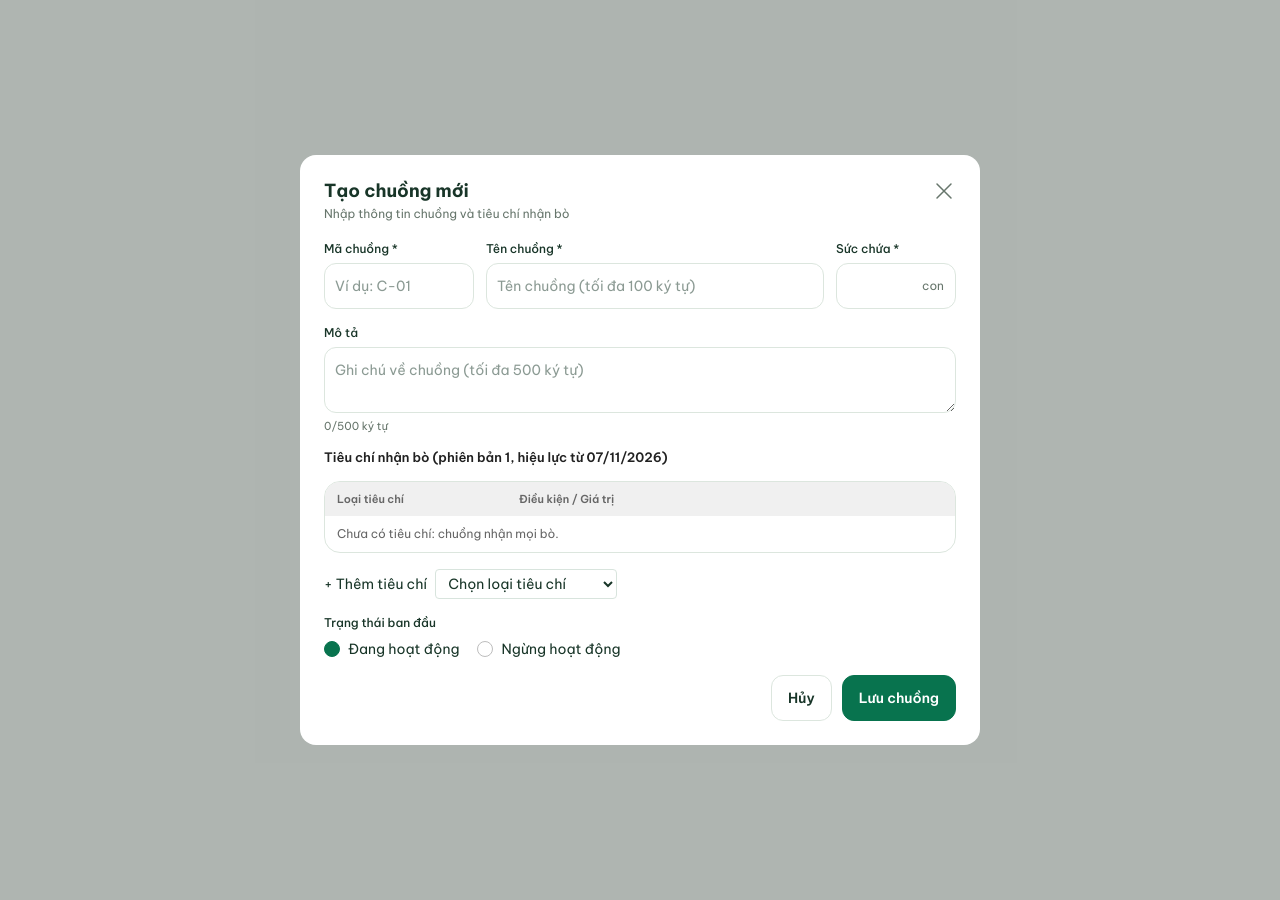
it: Create / Edit Pen popup › requires a value for every added criterion
Type "C-02" into the field with placeholder "Ví dụ: C-01" at (399, 286), box x1=324 y1=263 x2=474 y2=309
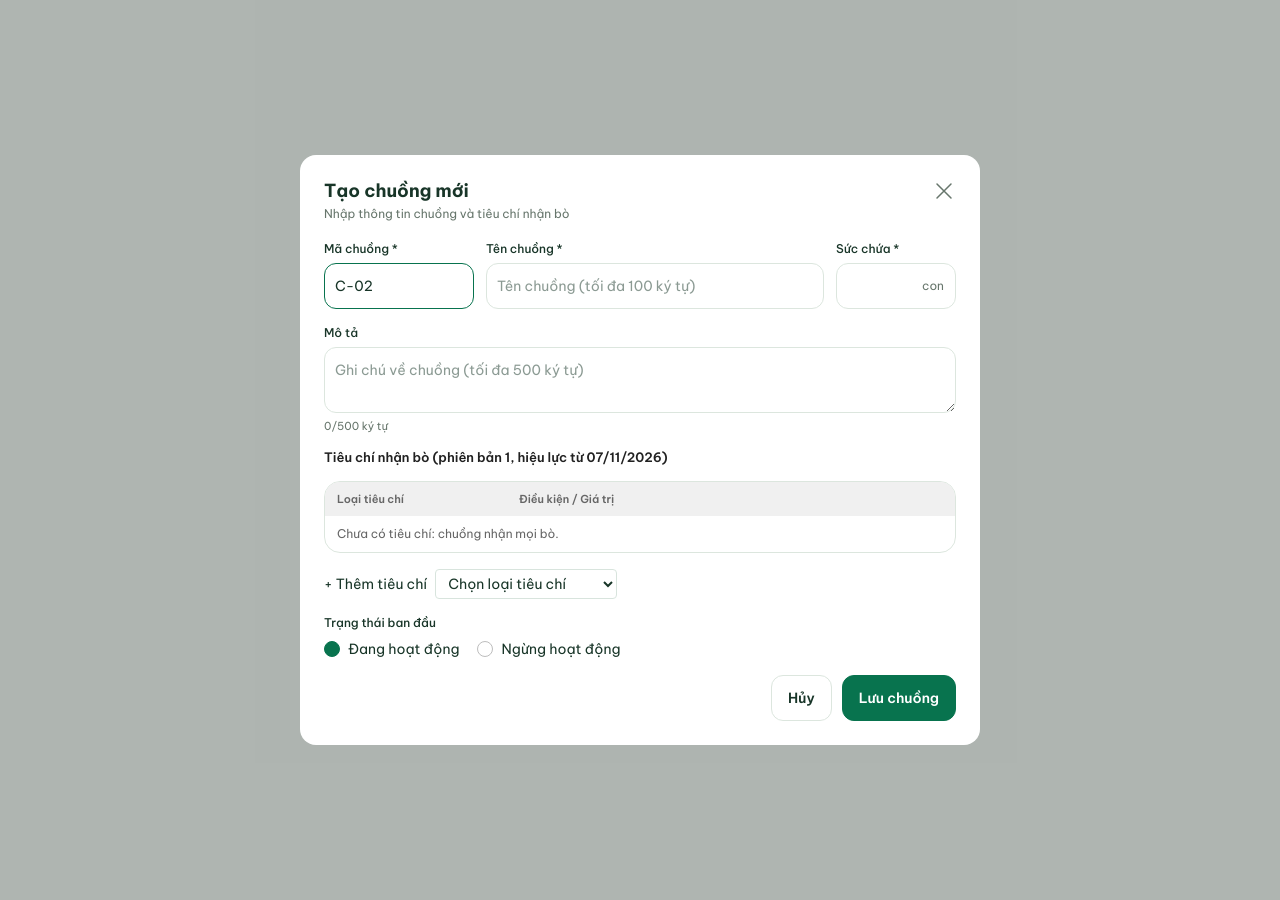
Type "Bê" into the field with placeholder "Tên chuồng (tối đa 100 ký tự)" at (655, 286), box x1=486 y1=263 x2=824 y2=309
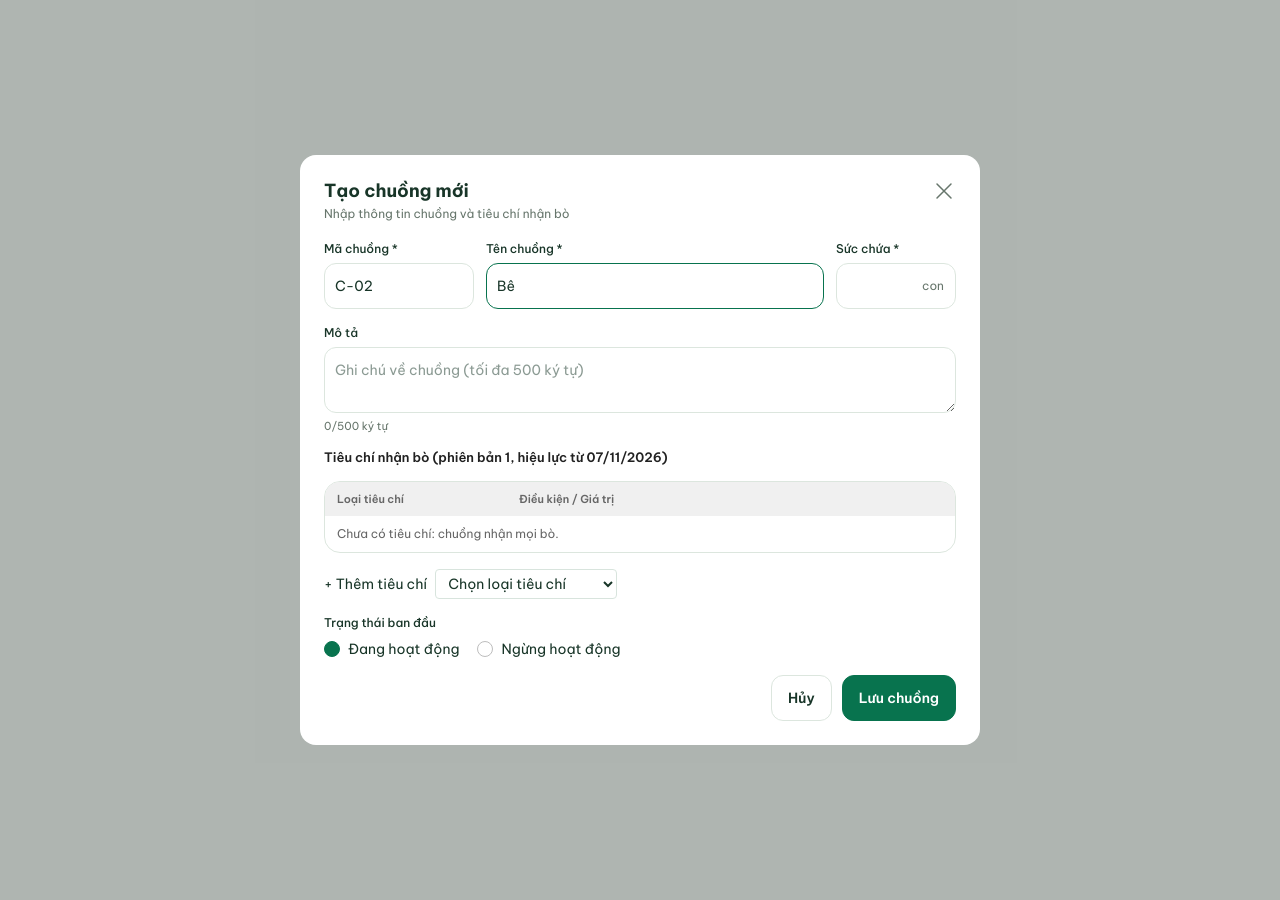
Type "10" into the field next to "con" at (896, 286), box x1=836 y1=263 x2=956 y2=309
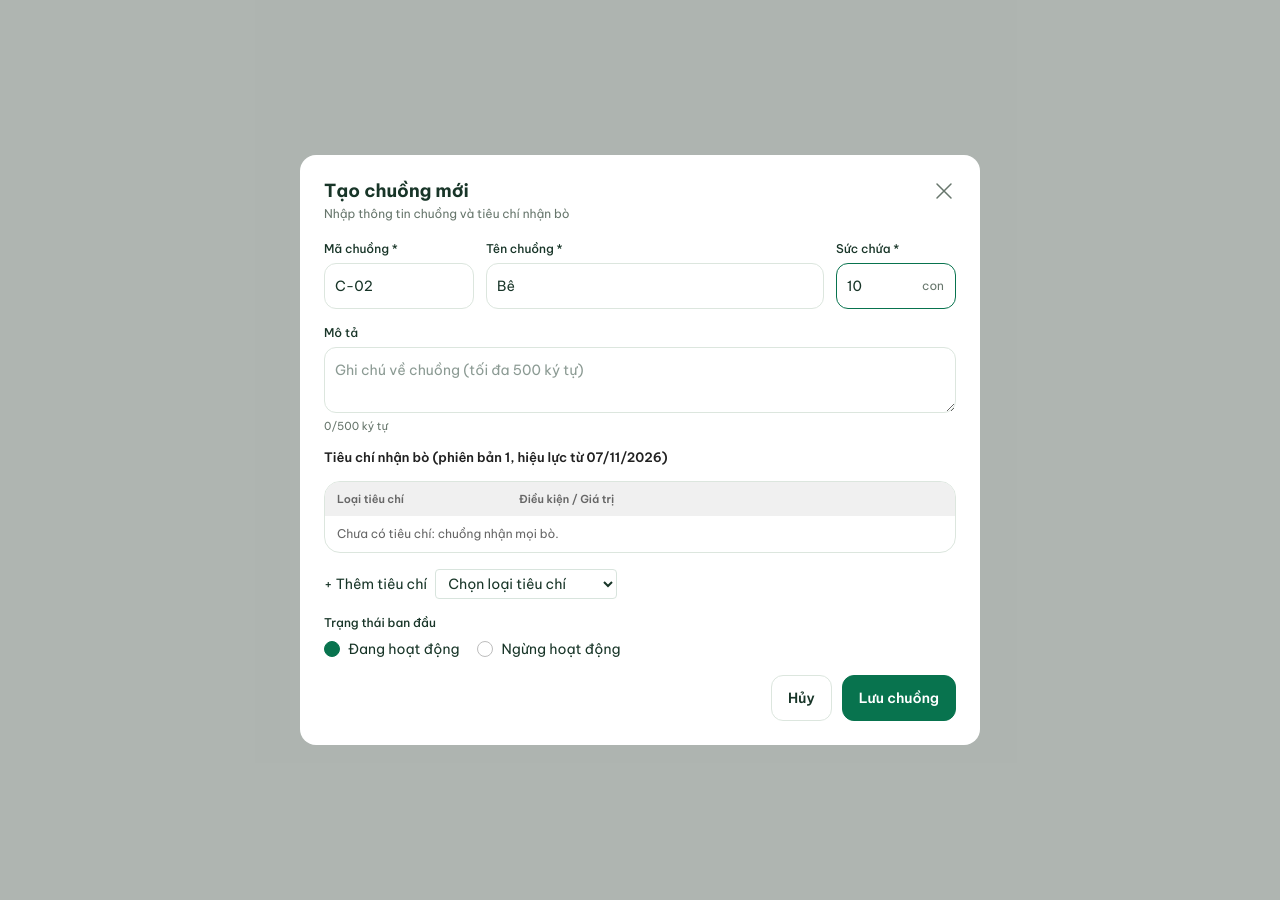
Select "Giai đoạn" in the dropdown labelled "Thêm tiêu chí" at (526, 584), box x1=435 y1=569 x2=617 y2=599
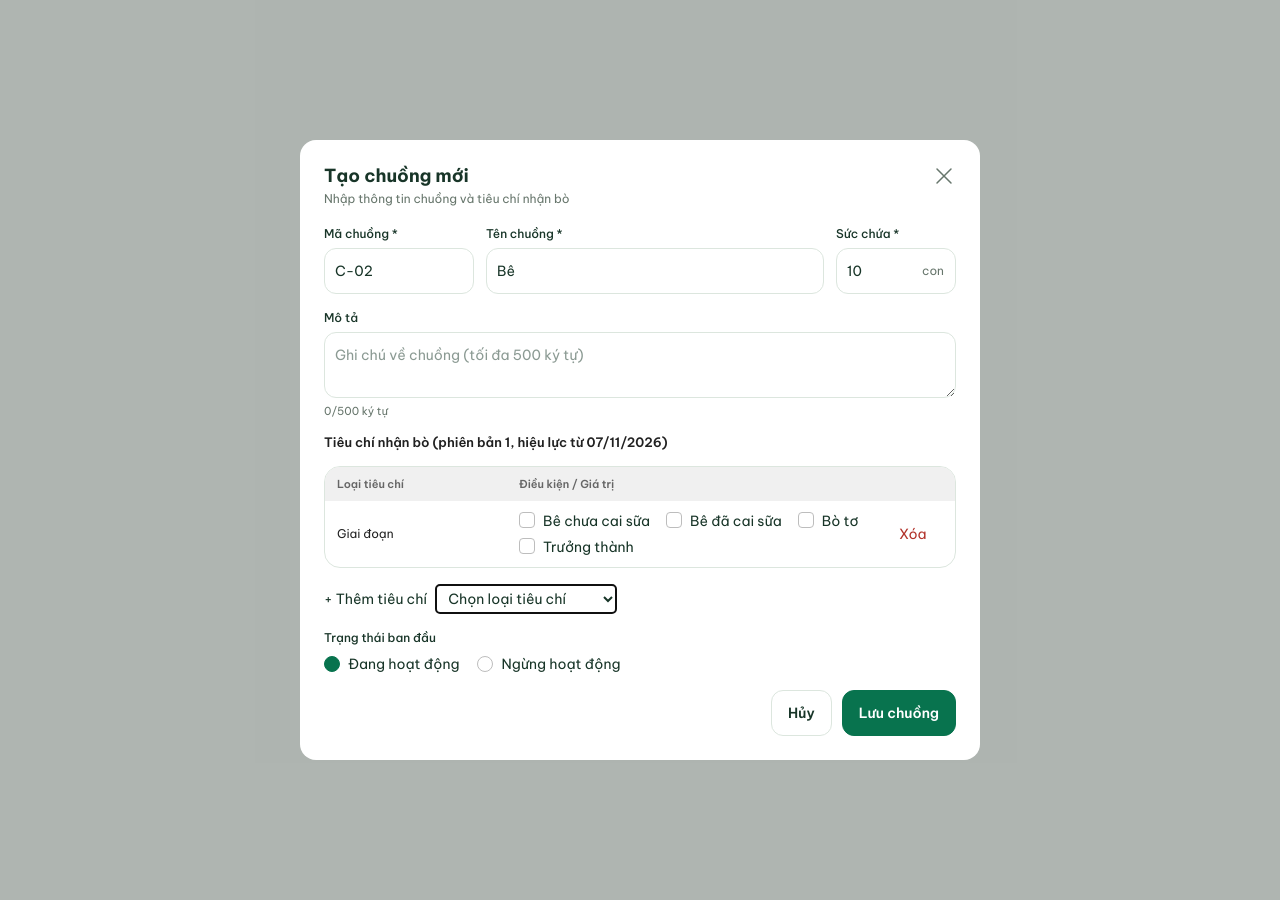
Click the button "Lưu chuồng" at (899, 713), box x1=842 y1=690 x2=956 y2=736
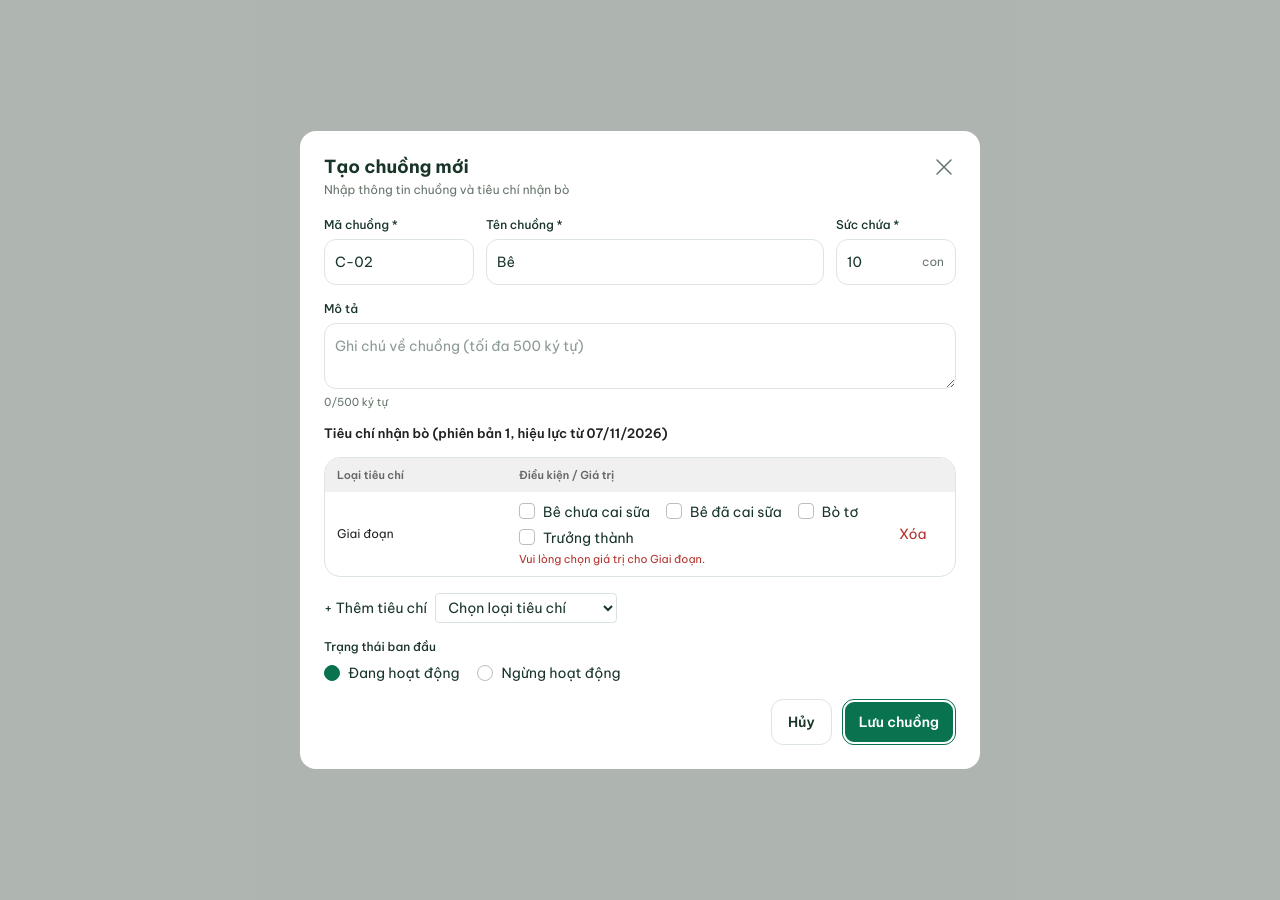
Check: the text "Vui lòng chọn giá trị cho Giai đoạn." is shown, box x1=519 y1=552 x2=705 y2=566
